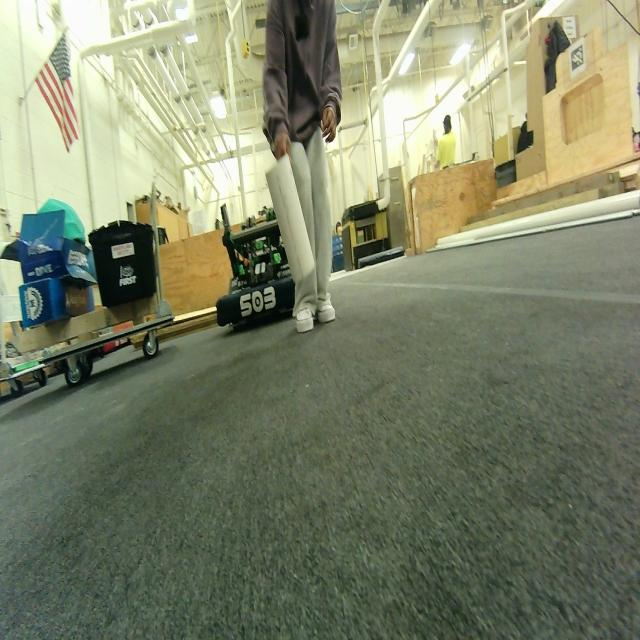coral: (265, 152, 323, 290)
